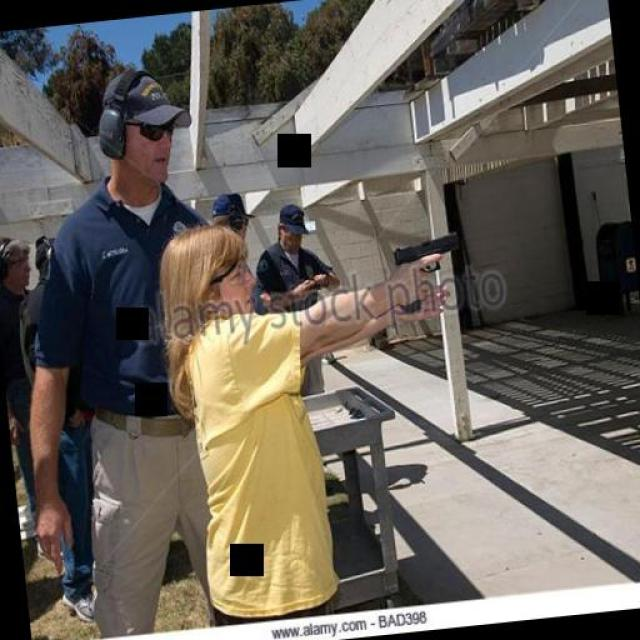gun: (390, 227, 468, 315)
